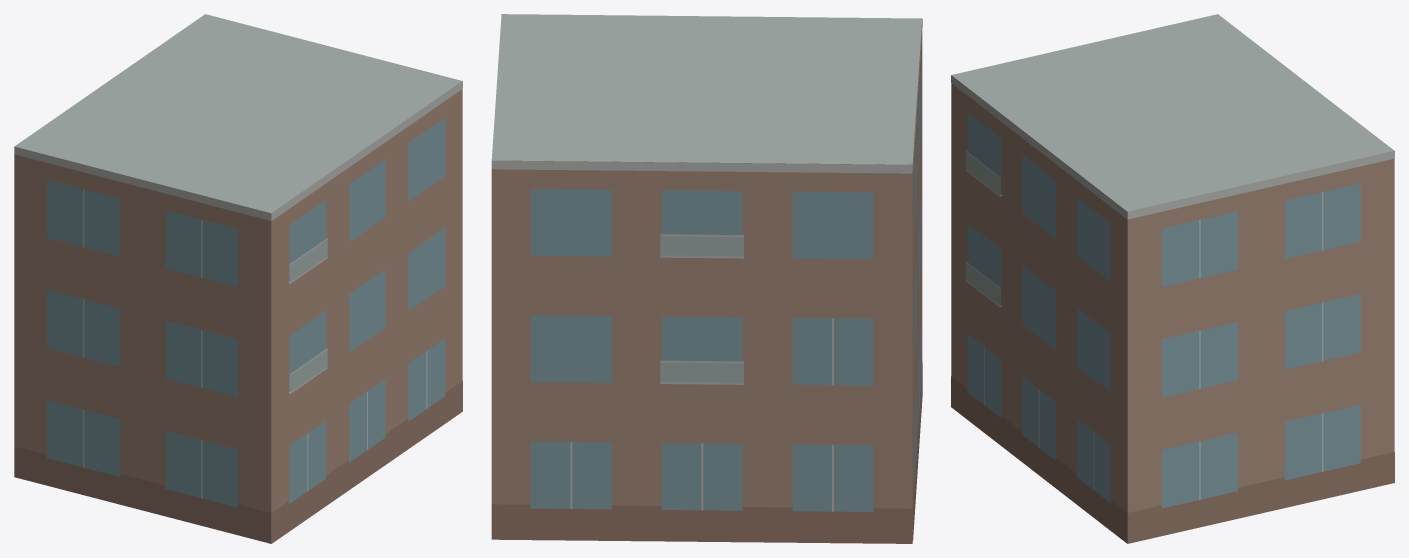
The model's file is survey-upis-32832892.glb.
The picture shows the model from 3 angles, left to right: view 1: azimuth 30°, elevation 25°; view 2: azimuth 150°, elevation 25°; view 3: azimuth 270°, elevation 25°; orthographic projection. The views are drawn at different scales.
Parts seen in each view (by area): view 1: survey-upis-32832892.tmp; view 2: survey-upis-32832892.tmp; view 3: survey-upis-32832892.tmp.
Boxes of the visible parts, x1,y1,x2,y2 form: survey-upis-32832892.tmp: (14,14,462,543); survey-upis-32832892.tmp: (491,14,922,543); survey-upis-32832892.tmp: (951,14,1394,543).
Bounding box in the file's own units: 13.29 × 10.4 × 12.6.
